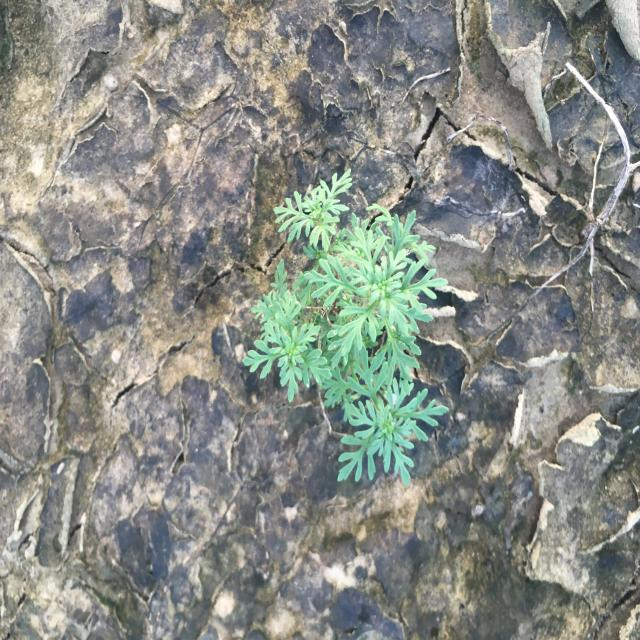Ragweed: (241, 166, 451, 489)
